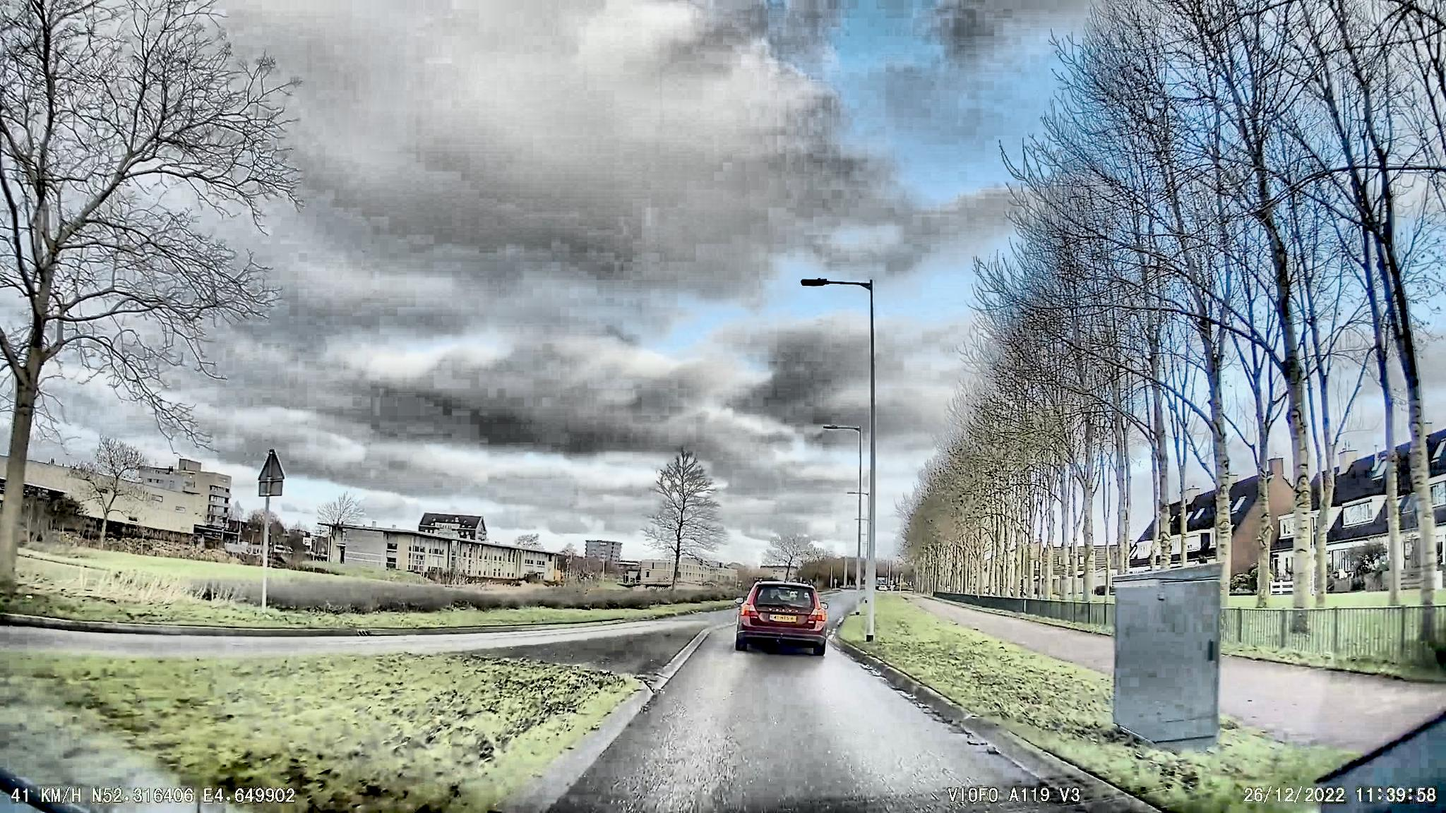Roads: (549, 622, 1161, 813)
